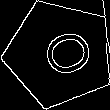O_W: (27, 24, 92, 83)
